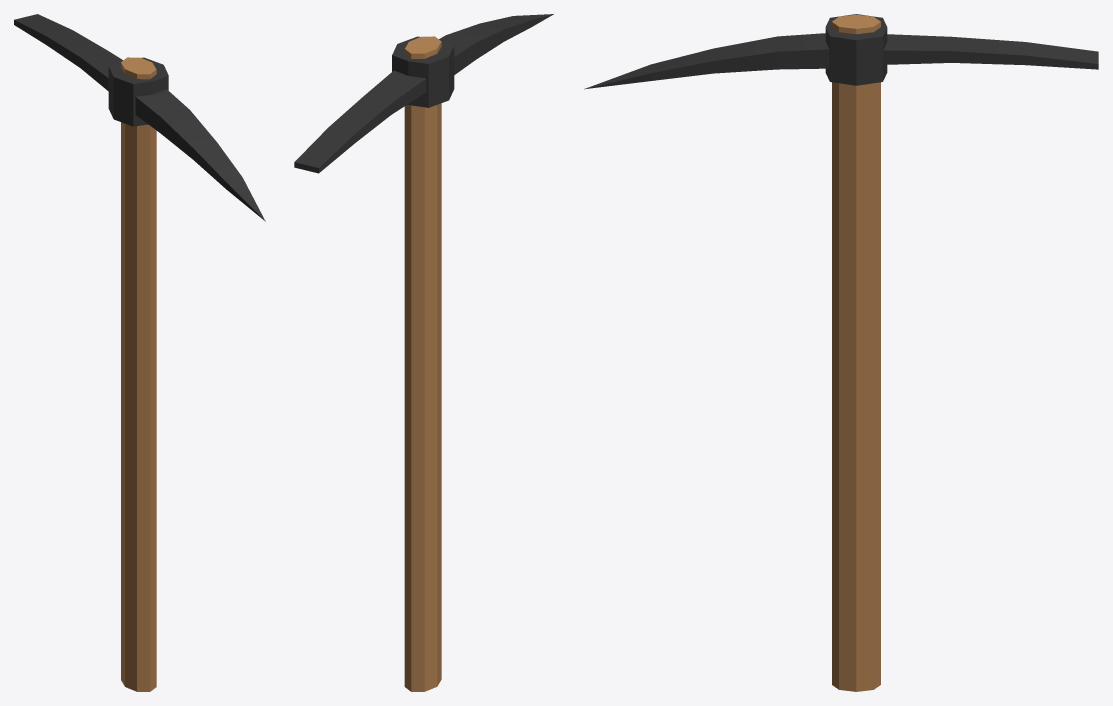
The model's file is pickaxe.fbx.
The picture shows the model from 3 angles, left to right: view 1: azimuth 30°, elevation 25°; view 2: azimuth 150°, elevation 25°; view 3: azimuth 270°, elevation 25°; orthographic projection. The views are drawn at different scales.
Parts seen in each view (by area): view 1: PickaxeHandle, PickaxeHead, PickaxeBolt; view 2: PickaxeHandle, PickaxeHead, PickaxeBolt; view 3: PickaxeHandle, PickaxeHead, PickaxeBolt.
Boxes of the visible parts, x1,y1,x2,y2 form: PickaxeHandle: [121, 57, 156, 691]; PickaxeHead: [14, 14, 265, 221]; PickaxeBolt: [108, 57, 168, 126]; PickaxeHandle: [404, 36, 441, 691]; PickaxeHead: [294, 14, 553, 173]; PickaxeBolt: [392, 36, 454, 107]; PickaxeHandle: [832, 14, 880, 691]; PickaxeHead: [584, 33, 1098, 89]; PickaxeBolt: [825, 14, 887, 85].
Size of the model in its own units: 6.65 by 78.32 by 55.16.
